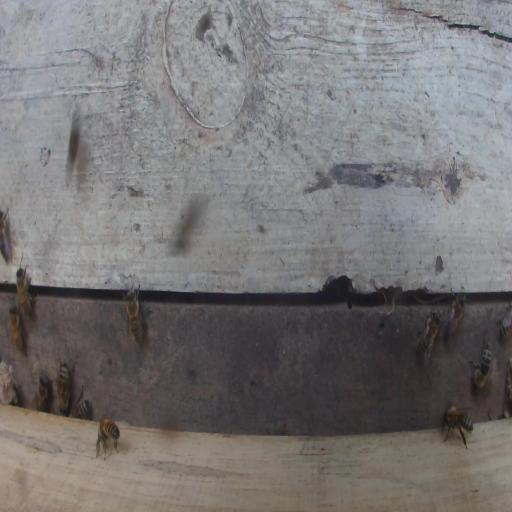nonpollenbee: (440, 397, 474, 450), (414, 309, 441, 368), (441, 287, 466, 342), (124, 286, 146, 347), (95, 413, 121, 462), (57, 356, 76, 418), (470, 338, 490, 394), (15, 265, 34, 321), (0, 206, 15, 268), (68, 384, 93, 420), (29, 373, 51, 413), (9, 305, 24, 354), (495, 307, 511, 342)
